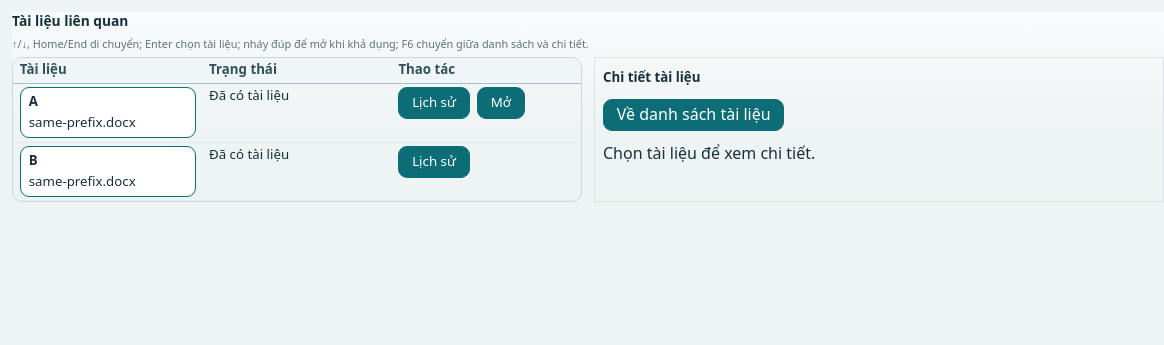
it: Document workspace identity and focus › R1 rejects an initial binary after same-event A → B → A selection
Click the button with aria-label "Mở A" at coordinates (501, 103), box 477,87 -> 525,119
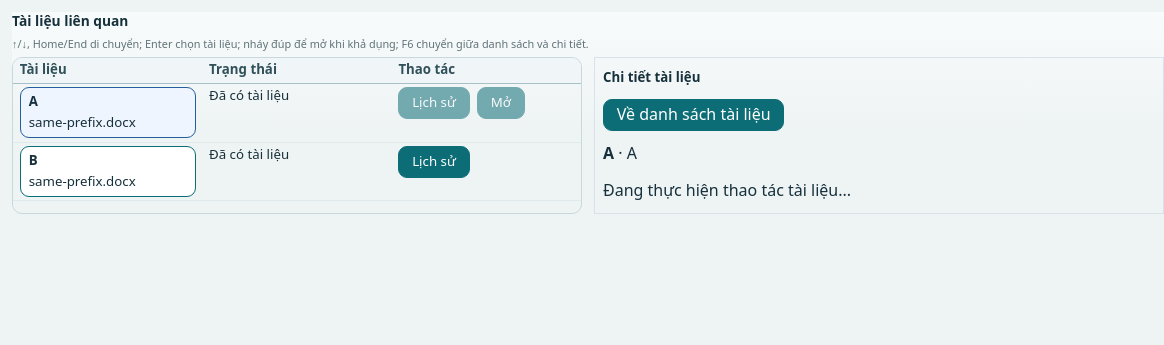
Click the button with aria-label "Chọn B" at coordinates (108, 171), box 20,146 -> 196,197
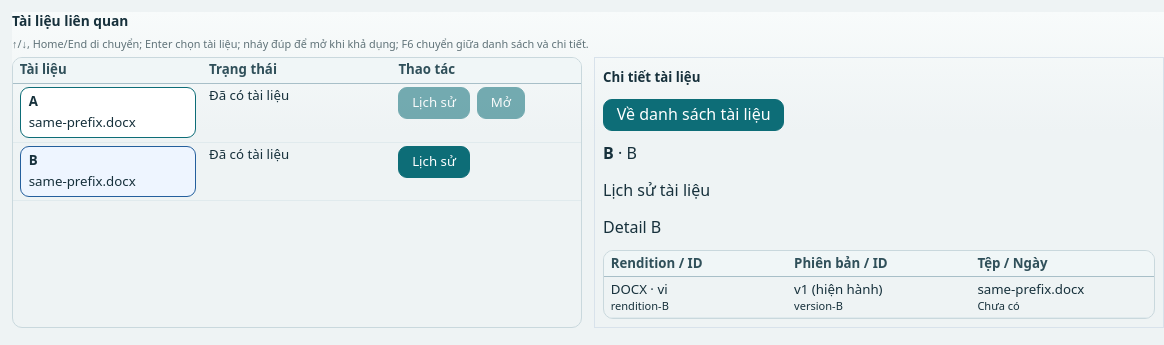
expect the text "Detail B" is shown: met, box 603,216 -> 661,238
Click the button with aria-label "Chọn A" at coordinates (108, 113), box 20,87 -> 196,138
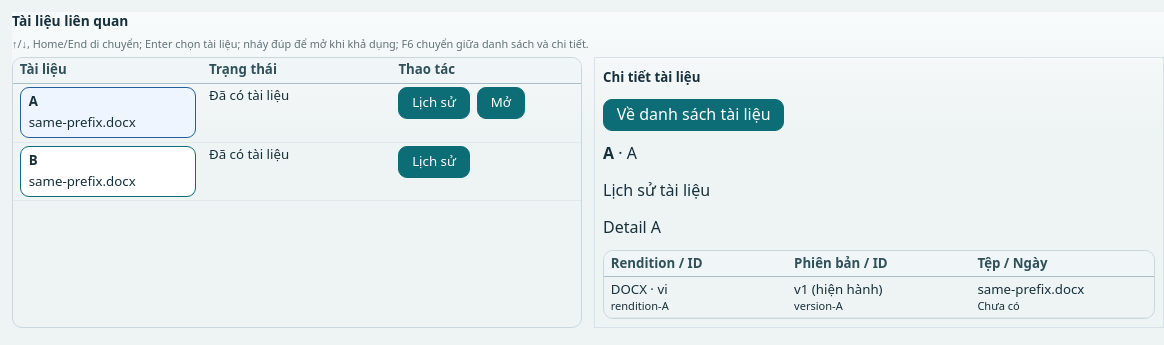
expect the text "Detail A" is shown: met, box 603,216 -> 661,238
